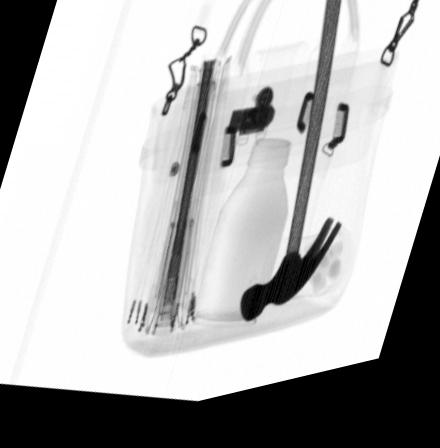Hammer: (240, 7, 343, 332)
